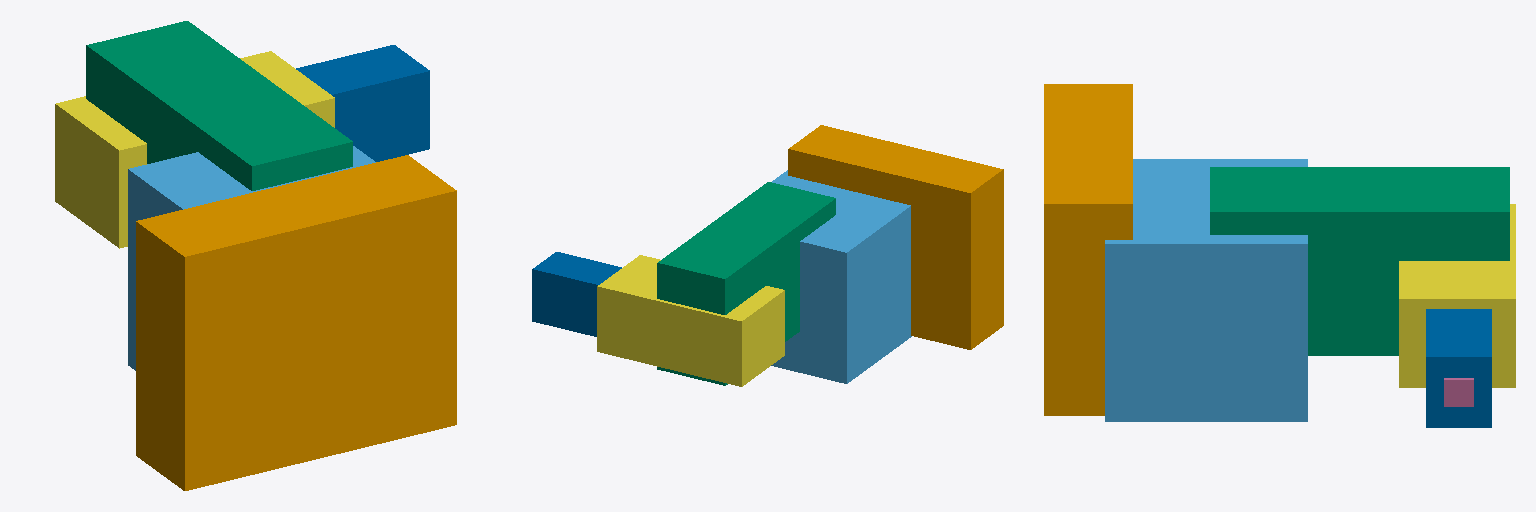
robot.urdf — [local-path]/Desktop/RobotIRB140WithoutGripper.urdf:
<?xml version="1.0"?>
<robot name="[local-path]/Desktop/RobotIRB140WithoutGripper.urdf" xmlns:xacro="http://ros.org/wiki/xacro">
  <link name="base_link">
    <visual>
      <origin xyz="-0.069261 0.07625 0" rpy="0 0 0"/>
      <geometry>
        <box size="0.488522 0.1525 0.402152"/>
      </geometry>
    </visual>
    <collision>
      <origin xyz="-0.069261 0.07625 0" rpy="0 0 0"/>
      <geometry>
        <box size="0.488522 0.1525 0.402152"/>
      </geometry>
    </collision>
  </link>
  <joint name="rm_base" type="revolute">
    <parent link="base_link"/>
    <child link="link1"/>
    <axis xyz="0 1 0"/>
    <limit effort="10000" lower="-3.1416" upper="3.1416" velocity="10"/>
    <origin xyz="0 0 0" rpy="0 0 0"/>
  </joint>
  <link name="link1">
    <visual>
      <origin xyz="0.018898 0.27825 -0.0359" rpy="0 0 0"/>
      <geometry>
        <box size="0.346769 0.3475 0.3368"/>
      </geometry>
    </visual>
    <collision>
      <origin xyz="0.018898 0.27825 -0.0359" rpy="0 0 0"/>
      <geometry>
        <box size="0.346769 0.3475 0.3368"/>
      </geometry>
    </collision>
  </link>
  <joint name="rm_axis1" type="revolute">
    <parent link="link1"/>
    <child link="link2"/>
    <axis xyz="0 0 1"/>
    <limit effort="10000" lower="-1.5708" upper="1.9199" velocity="10"/>
    <origin xyz="0.07 0.352 -0.1145" rpy="0 0 0"/>
  </joint>
  <link name="link2">
    <visual>
      <origin xyz="-0.008 0.189467 0.15325" rpy="0 0 0"/>
      <geometry>
        <box size="0.182 0.515065 0.2735"/>
      </geometry>
    </visual>
    <collision>
      <origin xyz="-0.008 0.189467 0.15325" rpy="0 0 0"/>
      <geometry>
        <box size="0.182 0.515065 0.2735"/>
      </geometry>
    </collision>
  </link>
  <joint name="rm_axis2" type="revolute">
    <parent link="link2"/>
    <child link="link3"/>
    <axis xyz="0 0 1"/>
    <limit effort="10000" lower="-0.8727" upper="4.0143" velocity="10"/>
    <origin xyz="0 0.36 0.0565" rpy="0 0 0"/>
  </joint>
  <link name="link3">
    <visual>
      <origin xyz="0.044673 -0.003 0.057" rpy="0 0 0"/>
      <geometry>
        <box size="0.387653 0.2 0.168"/>
      </geometry>
    </visual>
    <collision>
      <origin xyz="0.044673 -0.003 0.057" rpy="0 0 0"/>
      <geometry>
        <box size="0.387653 0.2 0.168"/>
      </geometry>
    </collision>
  </link>
  <joint name="rm_axis3" type="revolute">
    <parent link="link3"/>
    <child link="link4"/>
    <axis xyz="1 0 0"/>
    <limit effort="10000" lower="-3.4907" upper="3.4907" velocity="10"/>
    <origin xyz="0.2185 0 0.058" rpy="0 0 0"/>
  </joint>
  <link name="link4">
    <visual>
      <origin xyz="0.10875 0 -0.002763" rpy="0 0 0"/>
      <geometry>
        <box size="0.2175 0.112 0.134475"/>
      </geometry>
    </visual>
    <collision>
      <origin xyz="0.10875 0 -0.002763" rpy="0 0 0"/>
      <geometry>
        <box size="0.2175 0.112 0.134475"/>
      </geometry>
    </collision>
  </link>
  <joint name="rm_axis4" type="revolute">
    <parent link="link4"/>
    <child link="link5"/>
    <axis xyz="0 0 1"/>
    <limit effort="10000" lower="-2.0071" upper="2.0071" velocity="10"/>
    <origin xyz="0.1615 0 -0.016" rpy="0 0 0"/>
  </joint>
  <link name="link5">
    <visual>
      <origin xyz="0 -0.000006 0.016" rpy="0 0 0"/>
      <geometry>
        <box size="0.0846 0.084588 0.032"/>
      </geometry>
    </visual>
    <collision>
      <origin xyz="0 -0.000006 0.016" rpy="0 0 0"/>
      <geometry>
        <box size="0.0846 0.084588 0.032"/>
      </geometry>
    </collision>
  </link>
  <joint name="rm_axis5" type="revolute">
    <parent link="link5"/>
    <child link="link6"/>
    <axis xyz="1 0 0"/>
    <limit effort="10000" lower="-6.9813" upper="6.9813" velocity="10"/>
    <origin xyz="0.0395 0 0.016" rpy="0 0 0"/>
  </joint>
  <link name="link6">
    <visual>
      <origin xyz="0.01275 0 0" rpy="0 0 0"/>
      <geometry>
        <box size="0.0255 0.05 0.05"/>
      </geometry>
    </visual>
    <collision>
      <origin xyz="0.01275 0 0" rpy="0 0 0"/>
      <geometry>
        <box size="0.0255 0.05 0.05"/>
      </geometry>
    </collision>
  </link>
</robot>

--- What the picture shows (computed from the rendered views, not written in the file) ---
Views: 3 orthographic renders of the robot side by side, from view 1: azimuth 30°, elevation 25°; view 2: azimuth 150°, elevation 25°; view 3: azimuth 270°, elevation 25°.
Model [local-path]/Desktop/RobotIRB140WithoutGripper.urdf with 7 links and 6 joints (6 revolute), rooted at base_link, posed every joint at zero.
Visible links, largest first — view 1: base_link, link2, link3, link4, link1; view 2: base_link, link1, link3, link2, link4; view 3: link1, link2, base_link, link3, link4, link6.
Boxes of the visible links, x1,y1,x2,y2 form: base_link: [136, 155, 456, 490]; link2: [86, 21, 352, 190]; link3: [55, 51, 334, 248]; link4: [296, 45, 429, 161]; link1: [128, 146, 375, 370]; base_link: [788, 125, 1003, 349]; link1: [771, 170, 911, 383]; link3: [597, 255, 784, 386]; link2: [657, 182, 835, 385]; link4: [532, 252, 621, 336]; link1: [1105, 159, 1307, 421]; link2: [1210, 167, 1509, 355]; base_link: [1044, 84, 1132, 415]; link3: [1399, 204, 1515, 387]; link4: [1426, 309, 1491, 427]; link6: [1444, 378, 1473, 406].
Bounding box of the posed robot: 0.8285 × 0.809 × 0.4054 m (x, y, z).
Geometry: primitives only (box / cylinder / sphere), no mesh files.
